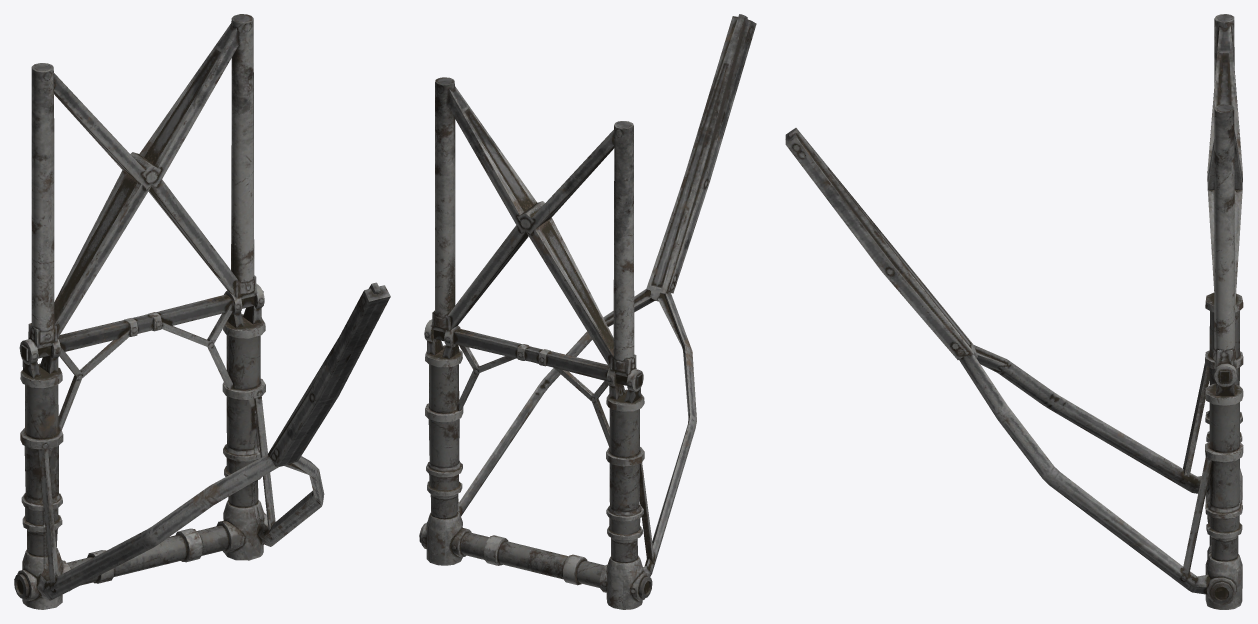
Rendered from plane_wreckage_undercarriage.dae.
3 views of the same model, side by side, from view 1: azimuth 30°, elevation 25°; view 2: azimuth 150°, elevation 25°; view 3: azimuth 270°, elevation 25° (orthographic). The views are drawn at different scales.
Parts seen in each view (by area): view 1: plane_wreckage_undercarriage; view 2: plane_wreckage_undercarriage; view 3: plane_wreckage_undercarriage.
Part boxes in pixels (x1,y1,x2,y2): plane_wreckage_undercarriage: (14, 14, 390, 609); plane_wreckage_undercarriage: (419, 14, 756, 609); plane_wreckage_undercarriage: (785, 14, 1243, 609).
Bounding box in the file's own units: 129 × 263 × 221.
